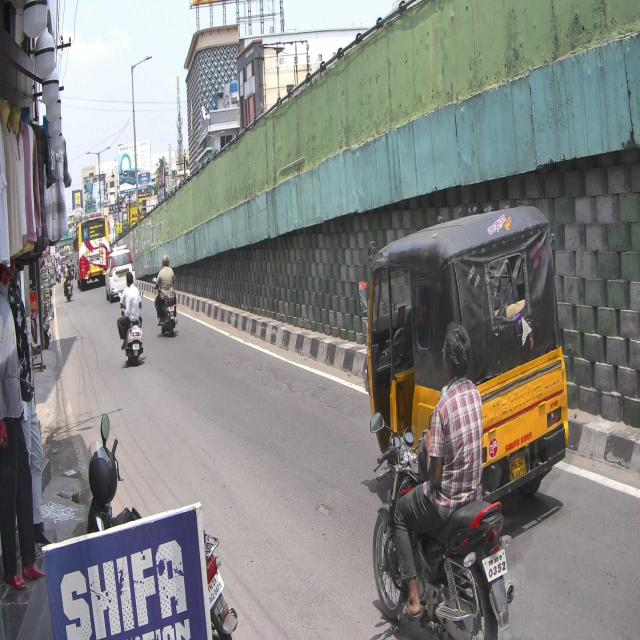single_rider: (372, 321, 514, 640)
